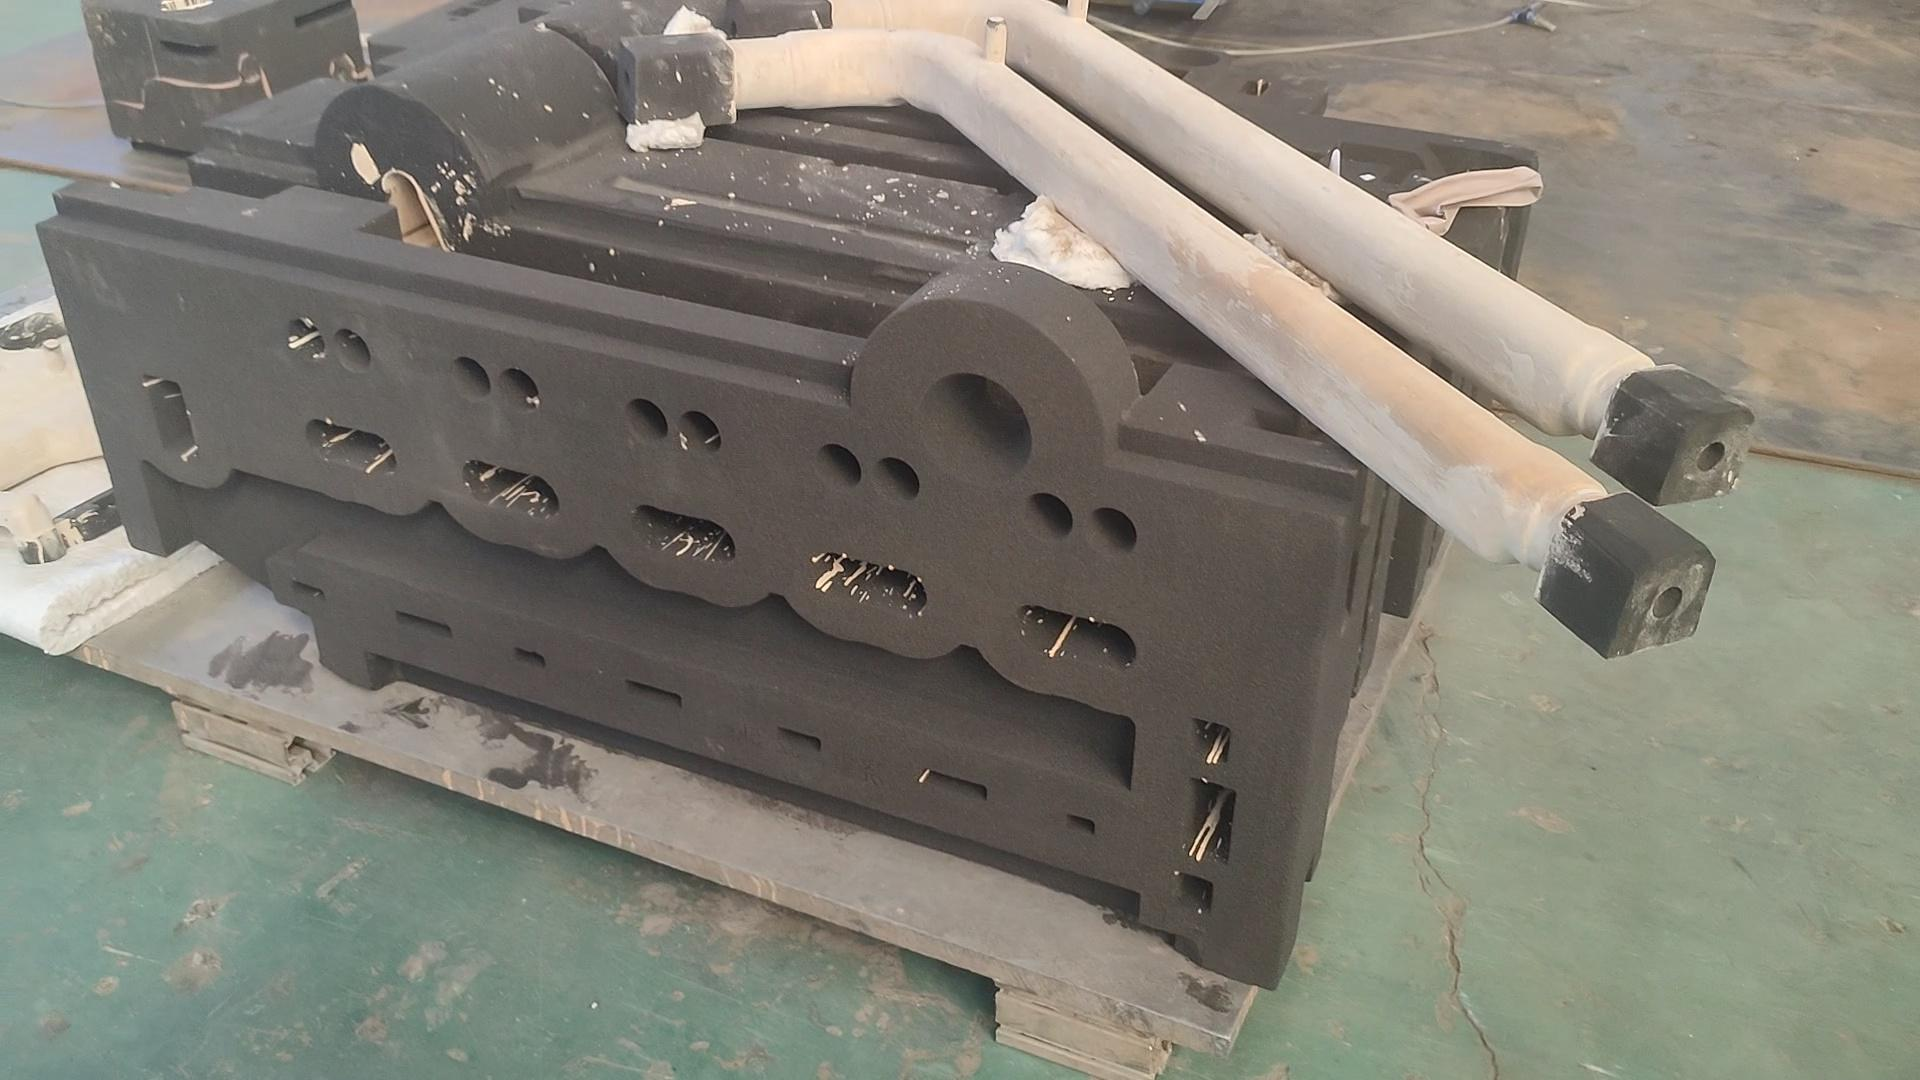pouring hole: (915, 372, 1033, 487), (1160, 45, 1221, 69)
